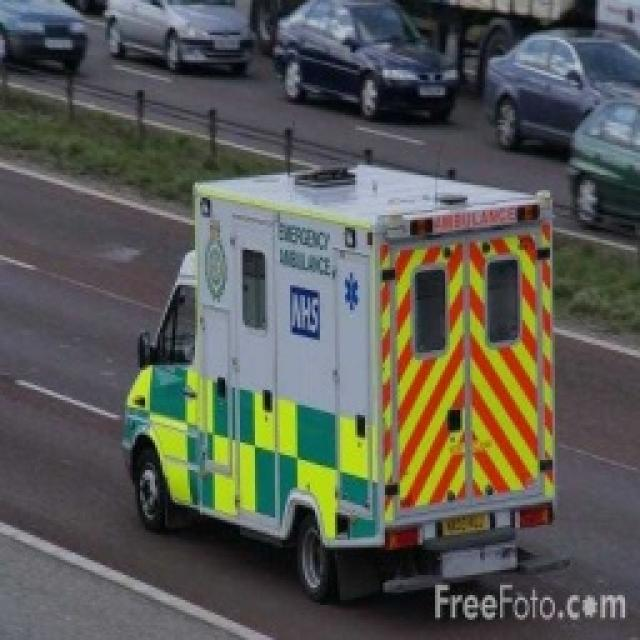emergency-vehicle: (120, 150, 558, 601)
